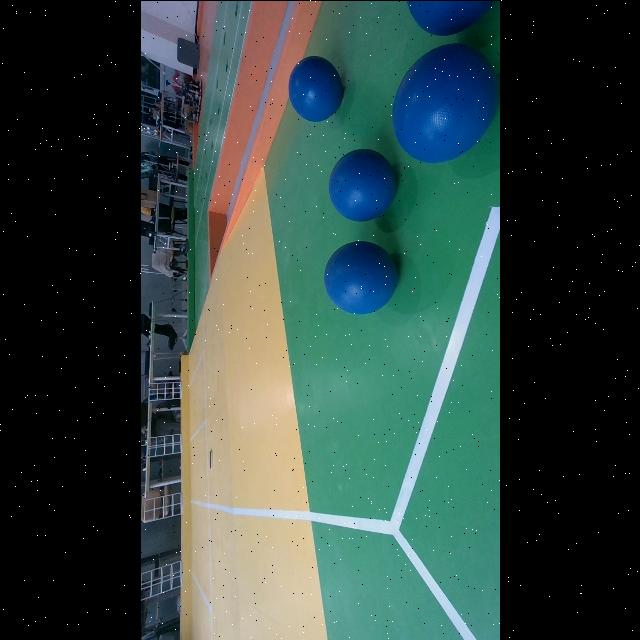B: (390, 41, 500, 162), (323, 240, 397, 314), (328, 147, 397, 220), (288, 55, 342, 121)
